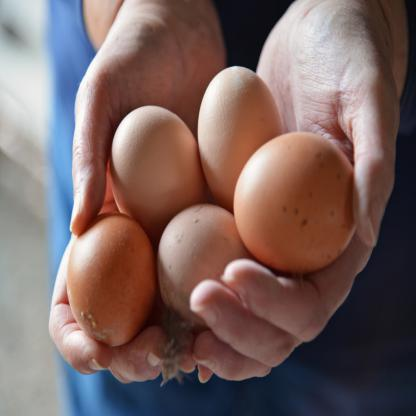Egg: (65, 64, 355, 348), (230, 126, 359, 280)
